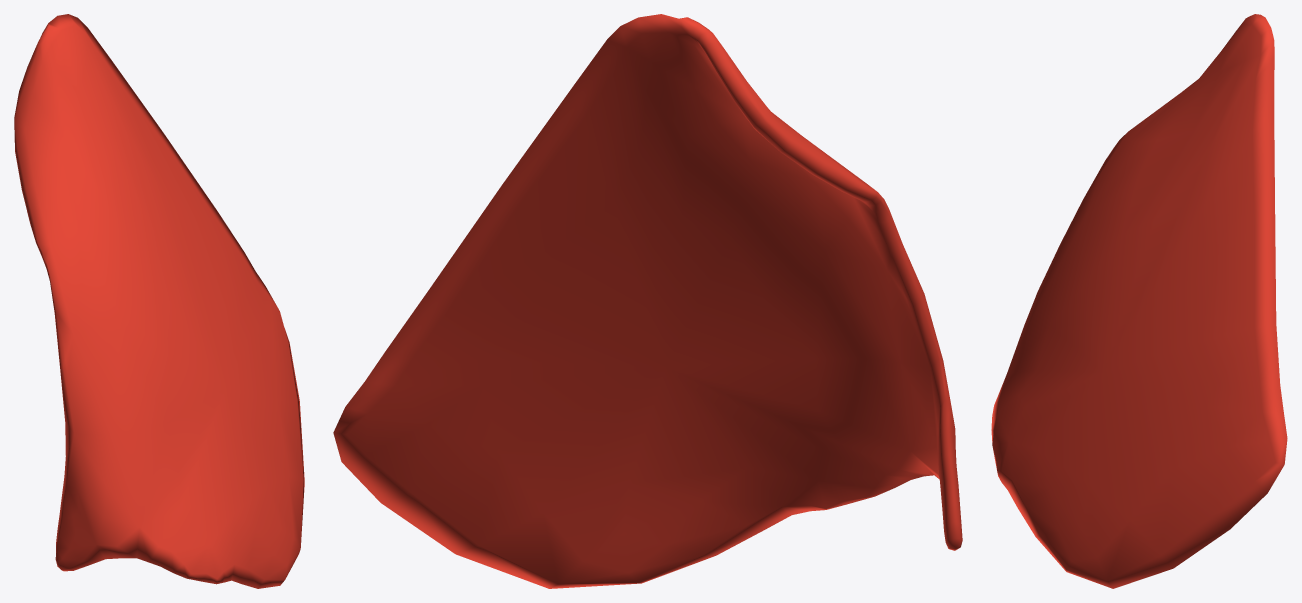
The model's file is Medial_pterygoid_muscle_in_the_pterygoid_fossa.l_Generated_Mesh.glb.
3 renders of one model, left to right at view 1: azimuth 30°, elevation 25°; view 2: azimuth 150°, elevation 25°; view 3: azimuth 270°, elevation 25°, orthographic. The views are drawn at different scales.
Parts seen in each view (by area): view 1: Medial_pterygoid_muscle_in_the_pterygoid_fossa.l_Generated_M; view 2: Medial_pterygoid_muscle_in_the_pterygoid_fossa.l_Generated_M; view 3: Medial_pterygoid_muscle_in_the_pterygoid_fossa.l_Generated_M.
Boxes of the visible parts, <box> form: Medial_pterygoid_muscle_in_the_pterygoid_fossa.l_Generated_M: <box>14,14,304,588</box>; Medial_pterygoid_muscle_in_the_pterygoid_fossa.l_Generated_M: <box>333,14,962,588</box>; Medial_pterygoid_muscle_in_the_pterygoid_fossa.l_Generated_M: <box>991,14,1287,588</box>.
Size of the model in its own units: 0.0138 by 0.0201 by 0.0108.
